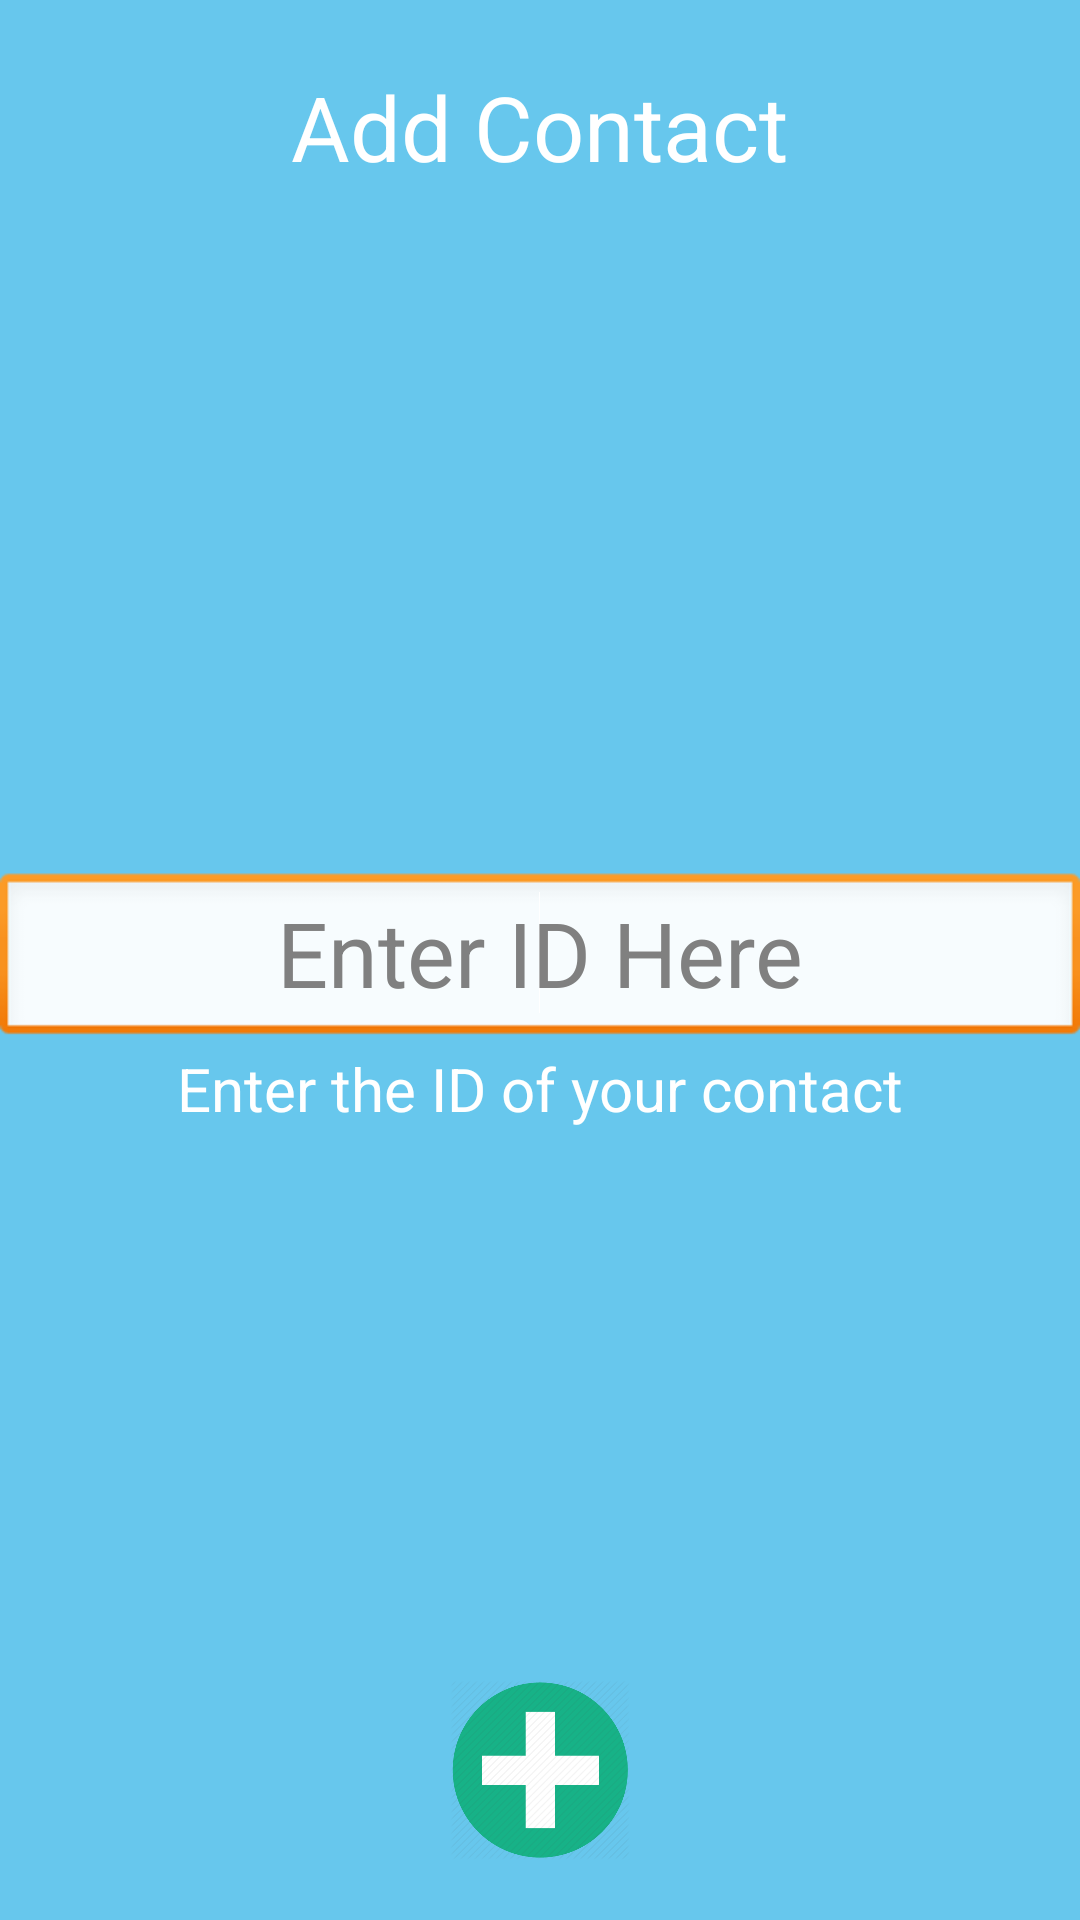

Icon click points for this 1080px×1920px phone screenshot, format [x,y]:
add: [540,1770]
